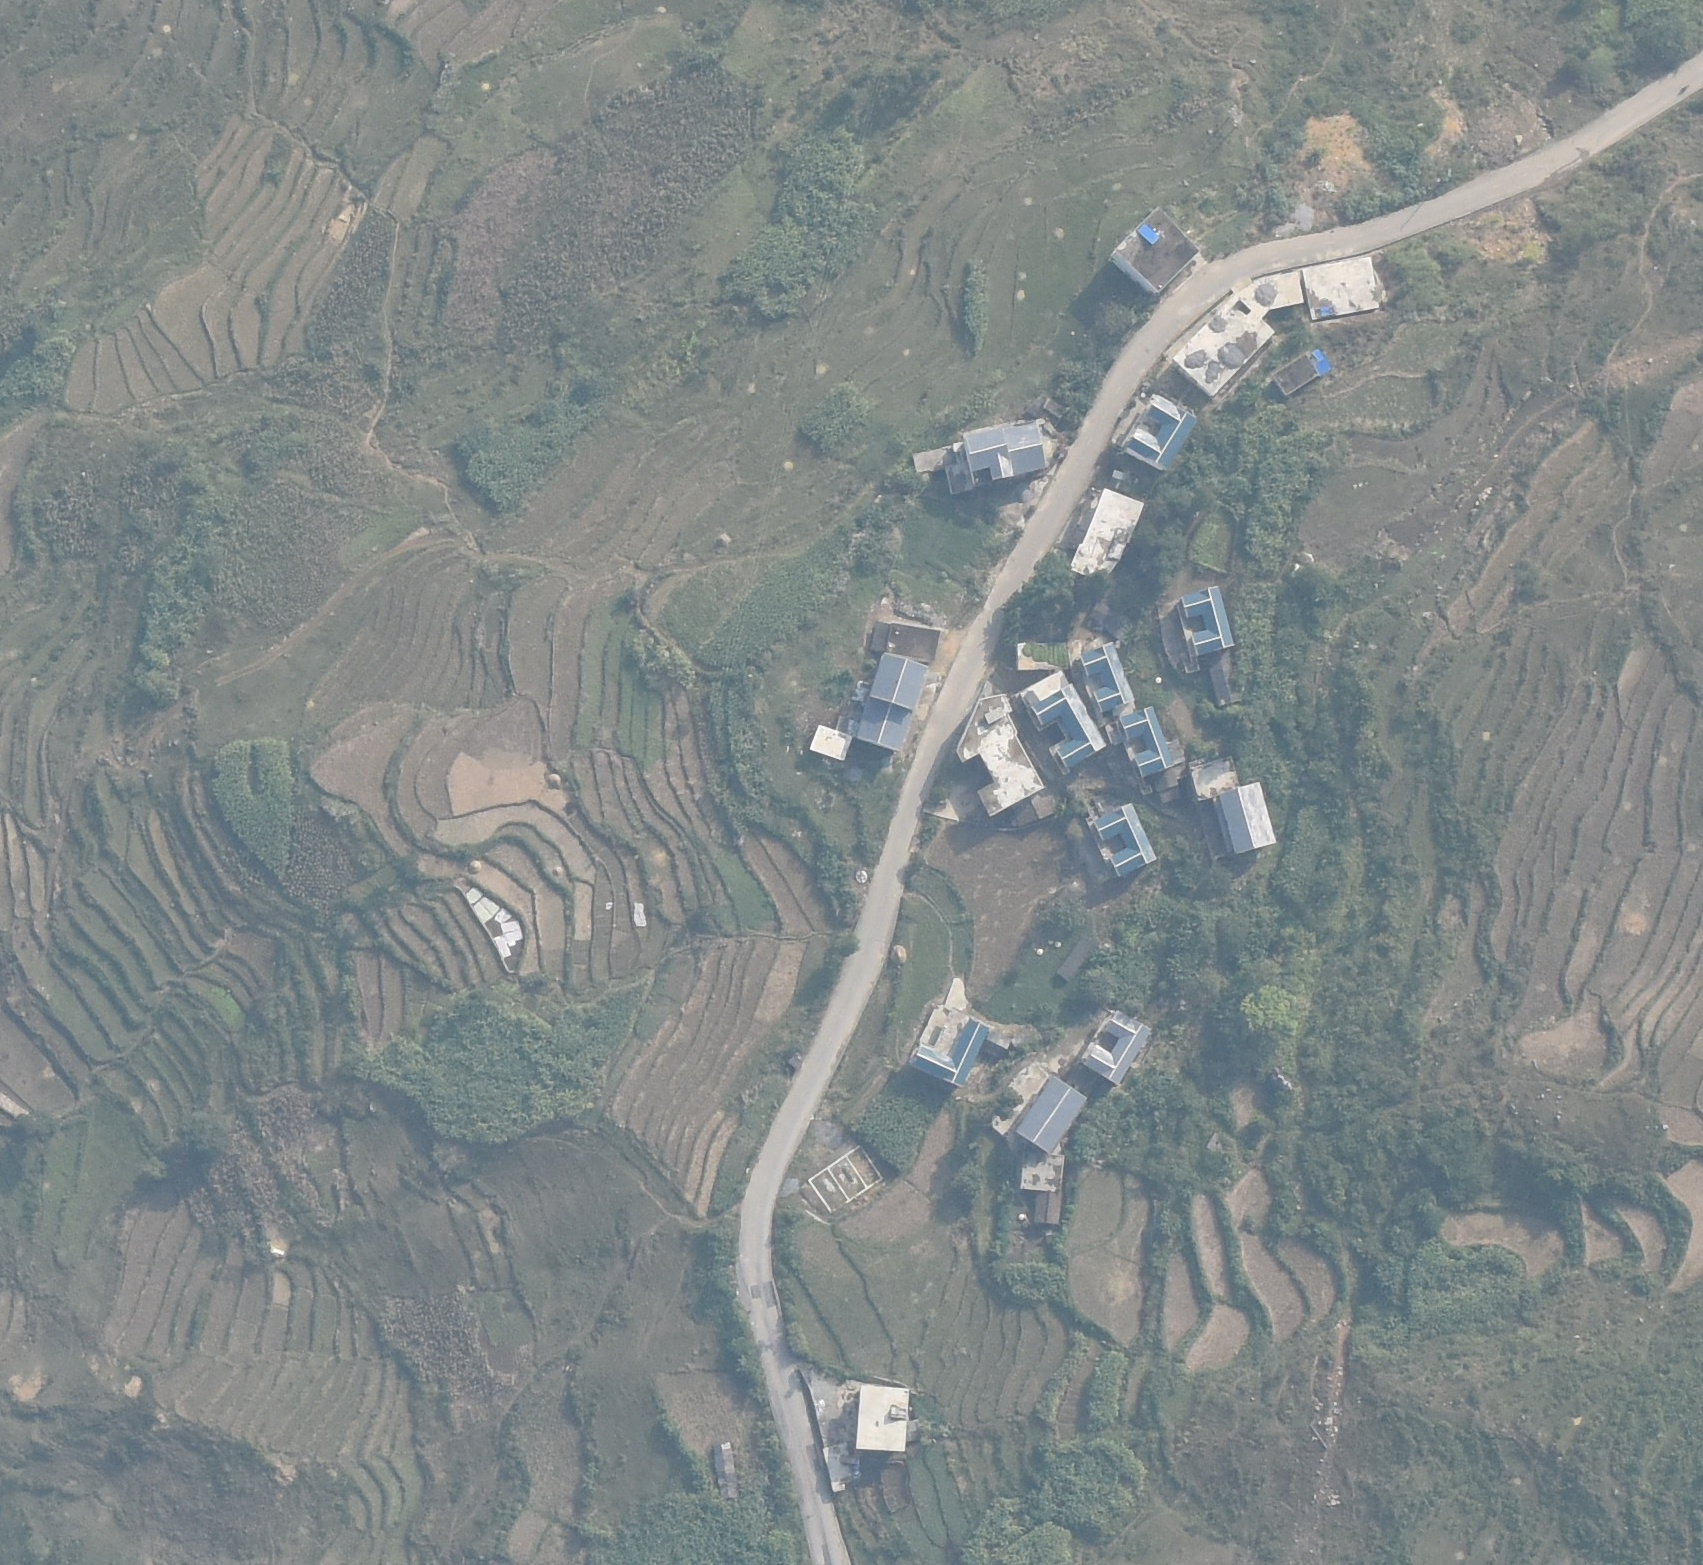building: (1167, 263, 1304, 395), (951, 691, 1044, 817), (1065, 482, 1147, 590), (1110, 202, 1205, 294), (1018, 678, 1110, 771), (935, 427, 1058, 495), (849, 650, 926, 752), (1004, 1077, 1089, 1153), (1078, 997, 1151, 1084), (906, 1015, 986, 1092), (1130, 386, 1202, 467), (1084, 804, 1157, 881), (1209, 780, 1280, 857), (846, 1380, 915, 1455), (1300, 260, 1387, 317), (1064, 641, 1133, 711), (1113, 705, 1176, 779), (1176, 590, 1236, 659), (863, 620, 948, 662), (1261, 355, 1325, 398), (1206, 659, 1251, 711), (1018, 1148, 1067, 1190), (811, 718, 850, 767), (1025, 1193, 1073, 1228)
prefabricated-house: (1311, 349, 1335, 377), (1136, 224, 1160, 246)
